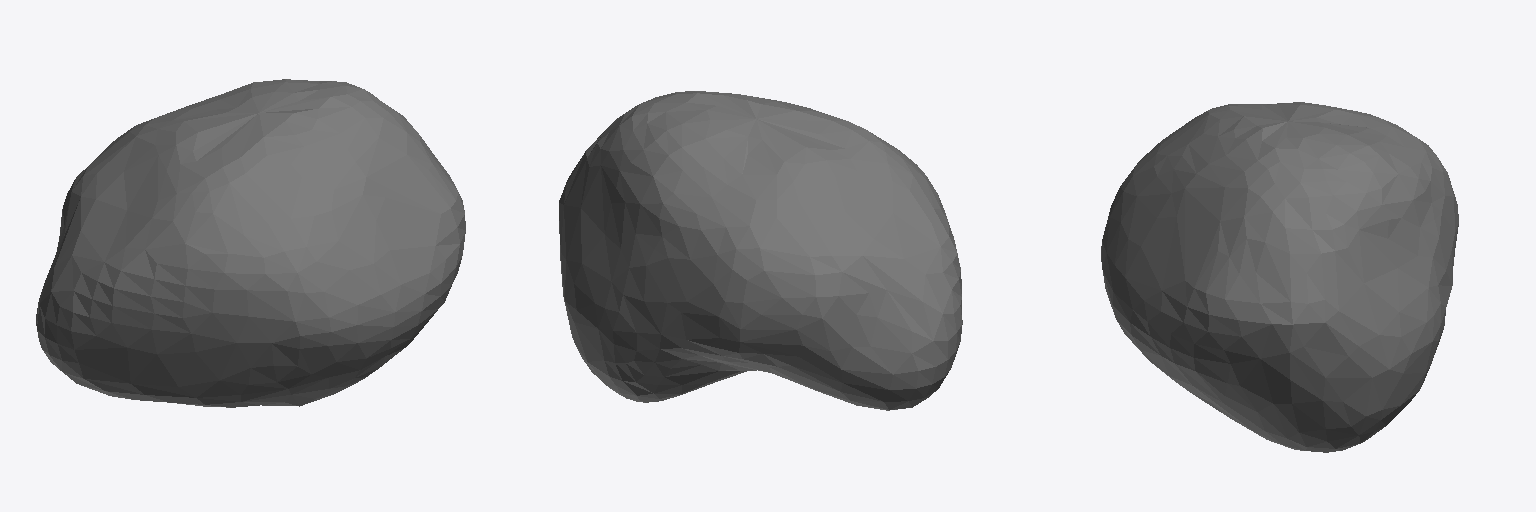
The model's file is deimos.obj.
3 views of the same model, side by side, from view 1: azimuth 30°, elevation 25°; view 2: azimuth 150°, elevation 25°; view 3: azimuth 270°, elevation 25° (orthographic).
Parts seen in each view (by area): view 1: deimos:deimos_Part_; view 2: deimos:deimos_Part_; view 3: deimos:deimos_Part_.
Boxes of the visible parts, x1=… form: deimos:deimos_Part_: x1=36, y1=79, x2=465, y2=407; deimos:deimos_Part_: x1=559, y1=91, x2=962, y2=410; deimos:deimos_Part_: x1=1101, y1=102, x2=1458, y2=452.
Size of the model in its own units: 0.3177 by 0.2221 by 0.2521.